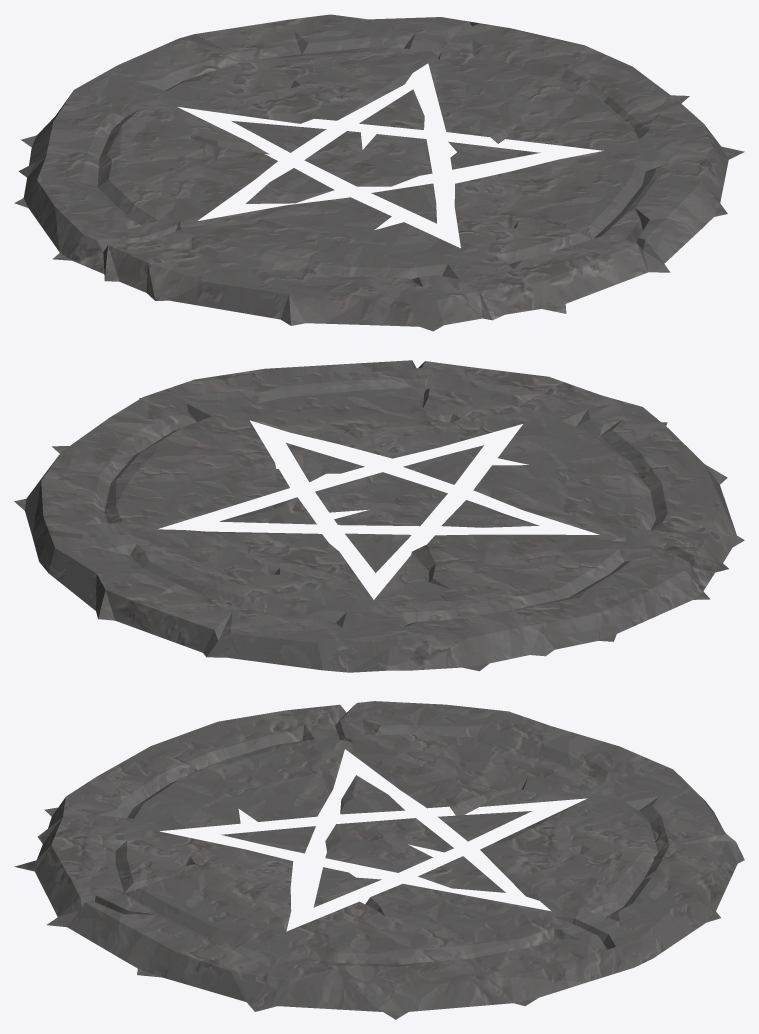
The model's file is SM_Central_Island_Pentagram_Inner.fbx.
The picture shows the model from 3 angles, top to bottom: view 1: azimuth 30°, elevation 25°; view 2: azimuth 150°, elevation 25°; view 3: azimuth 270°, elevation 25°; orthographic projection.
Visible parts, largest first — view 1: SM_Central_Island_Pentagram_Inner; view 2: SM_Central_Island_Pentagram_Inner; view 3: SM_Central_Island_Pentagram_Inner.
Part boxes in pixels (bbox=[...]): SM_Central_Island_Pentagram_Inner: bbox=[14, 14, 744, 331]; SM_Central_Island_Pentagram_Inner: bbox=[14, 360, 744, 672]; SM_Central_Island_Pentagram_Inner: bbox=[14, 701, 744, 1019].
Size of the model in its own units: 5.12 by 0.1512 by 5.05.
1 material, 1 textured.
